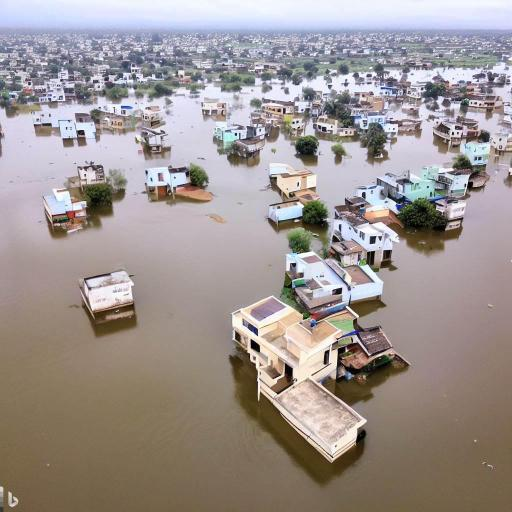flood: (0, 81, 512, 512), (386, 96, 506, 132), (304, 73, 384, 95), (40, 96, 134, 112), (408, 66, 482, 84), (493, 82, 512, 102), (490, 63, 512, 79), (391, 69, 402, 80)
house: (232, 295, 364, 385), (276, 376, 368, 462), (78, 268, 138, 326), (335, 217, 397, 265), (292, 262, 350, 313), (145, 164, 195, 200), (43, 188, 88, 226), (271, 163, 317, 197), (377, 172, 424, 204), (426, 168, 476, 198), (354, 184, 390, 216), (230, 136, 266, 164), (266, 200, 306, 225), (435, 199, 467, 230), (431, 123, 471, 146), (463, 137, 493, 167), (360, 112, 400, 134), (77, 164, 108, 192), (467, 92, 503, 111), (213, 124, 247, 142), (145, 132, 167, 154), (203, 99, 229, 117), (58, 118, 78, 140), (77, 114, 93, 141), (263, 100, 291, 115), (316, 118, 338, 136), (406, 83, 428, 100), (143, 106, 163, 124), (44, 82, 64, 100)
